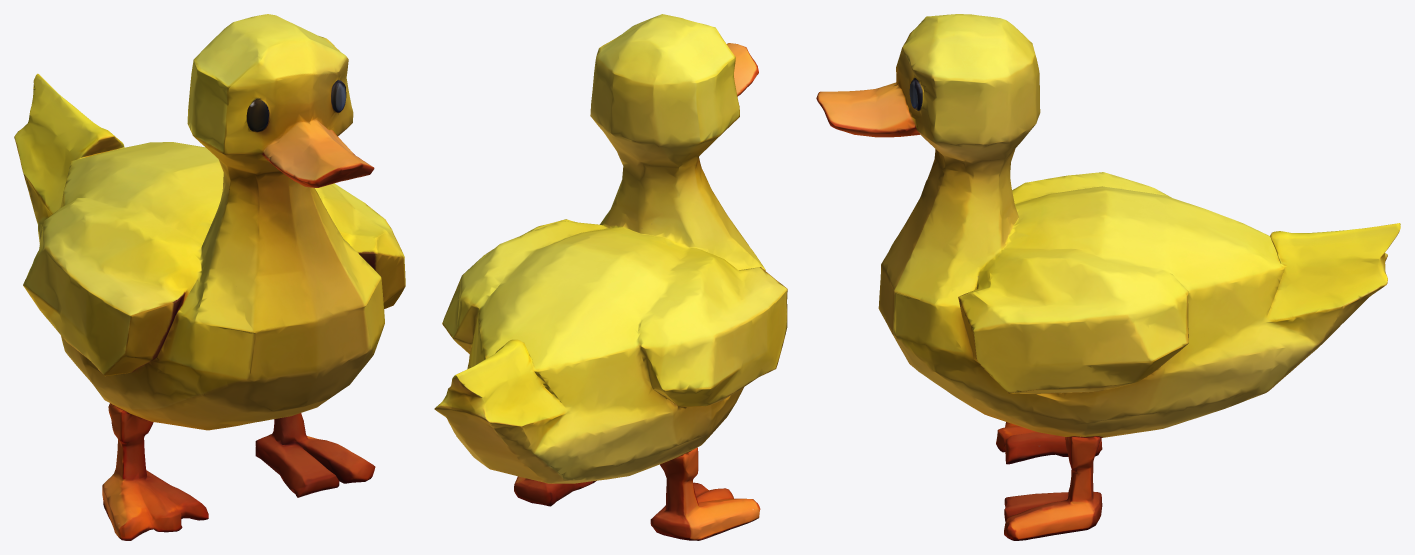
The model's file is duck.glb.
The picture shows the model from 3 angles, left to right: view 1: azimuth 30°, elevation 25°; view 2: azimuth 150°, elevation 25°; view 3: azimuth 270°, elevation 25°; orthographic projection. The views are drawn at different scales.
Parts seen in each view (by area): view 1: tripo_node_96238529-3d48-4a16-b79f-5600aa3e55d3; view 2: tripo_node_96238529-3d48-4a16-b79f-5600aa3e55d3; view 3: tripo_node_96238529-3d48-4a16-b79f-5600aa3e55d3.
Part boxes in pixels (x1,y1,x2,y2): tripo_node_96238529-3d48-4a16-b79f-5600aa3e55d3: [14, 14, 405, 540]; tripo_node_96238529-3d48-4a16-b79f-5600aa3e55d3: [434, 14, 787, 540]; tripo_node_96238529-3d48-4a16-b79f-5600aa3e55d3: [816, 14, 1400, 540].
Bounding box in the file's own units: 0.5464 × 0.8748 × 1.
1 material, 1 textured.
